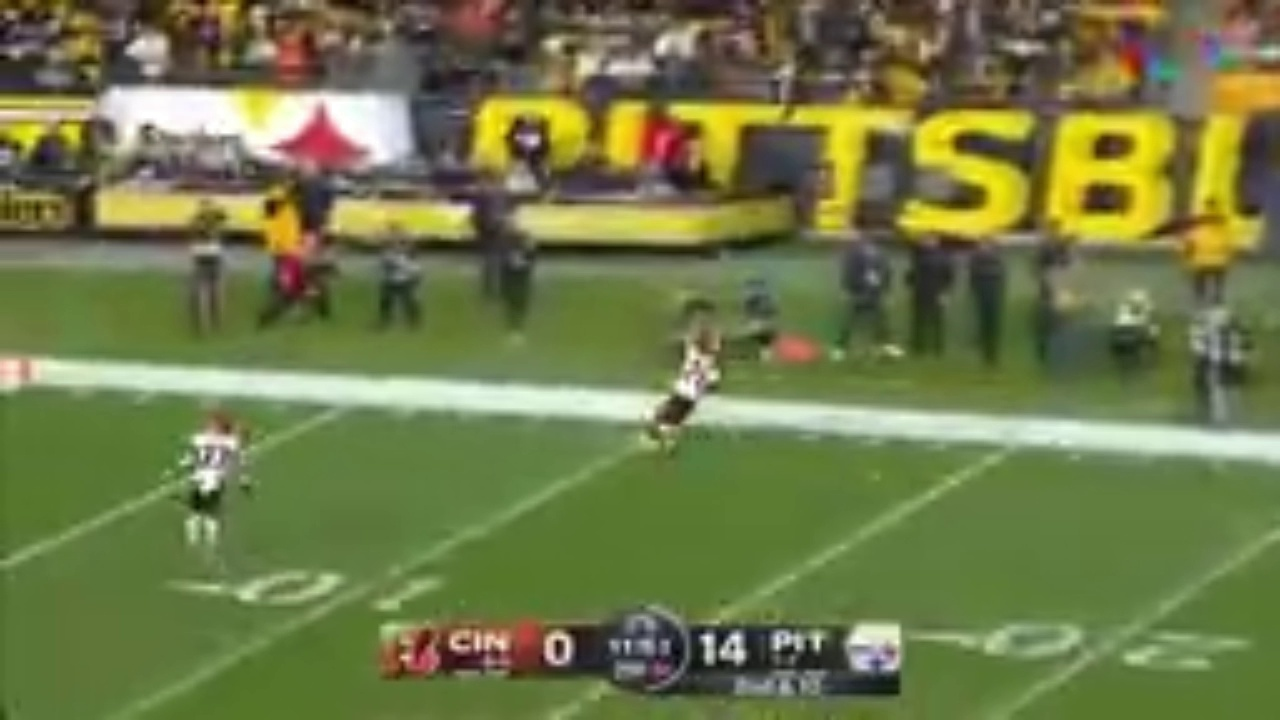interference: (684, 333, 719, 404)
